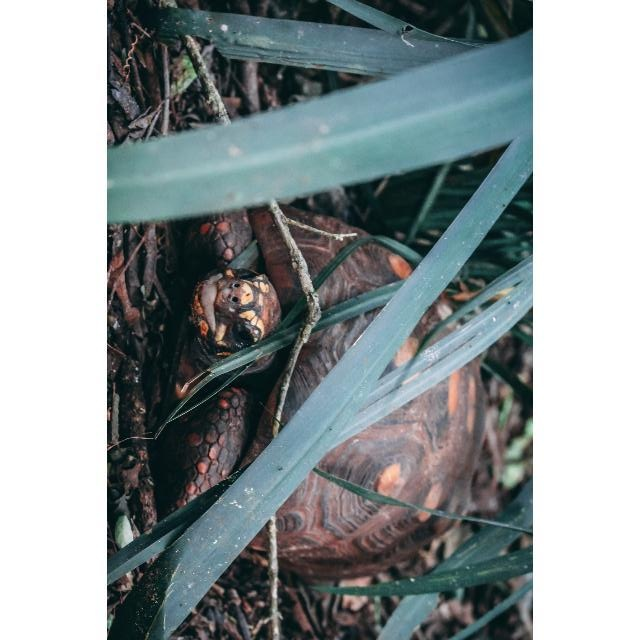turtle: (167, 202, 486, 587)
